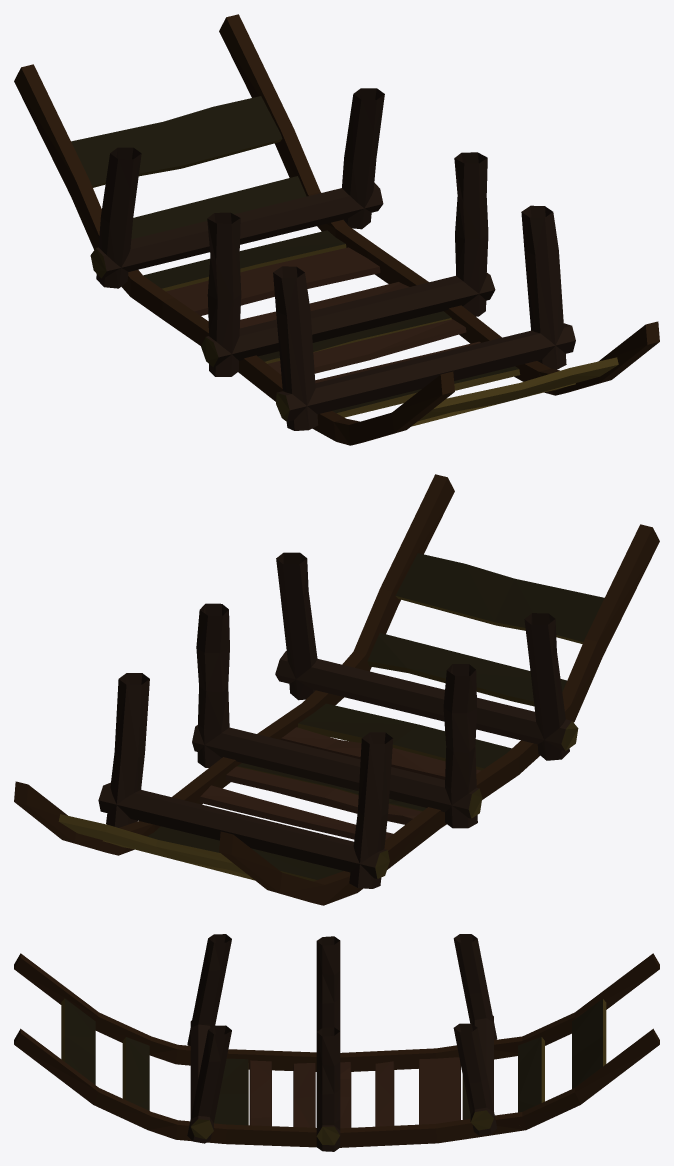
Rendered from brige old.FBX.
3 renders of one model, top to bottom at view 1: azimuth 30°, elevation 25°; view 2: azimuth 150°, elevation 25°; view 3: azimuth 270°, elevation 25°, orthographic. The views are drawn at different scales.
Visible parts, largest first — view 1: brige old; view 2: brige old; view 3: brige old.
Boxes of the visible parts, <box> form: brige old: <box>14,14,659,445</box>; brige old: <box>14,474,659,905</box>; brige old: <box>14,934,659,1151</box>.
Bounding box in the file's own units: 2.53 × 6.48 × 1.34.
